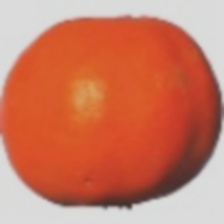tangerine: (0, 0, 191, 200)
